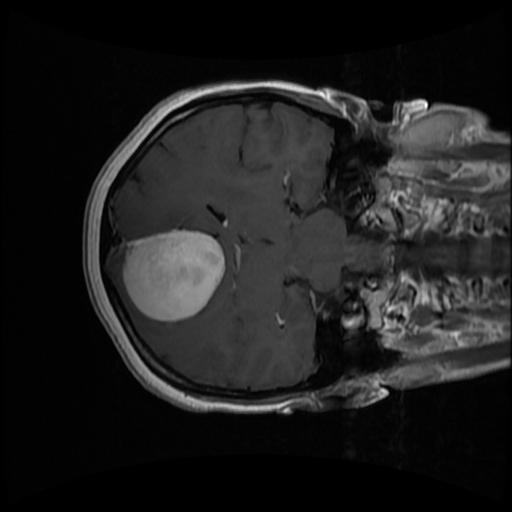meningioma: (122, 230, 226, 322)
